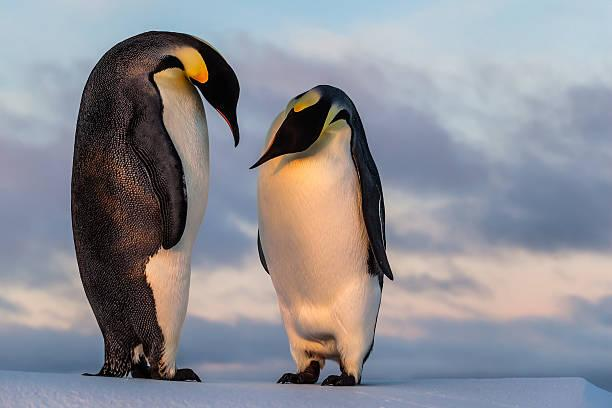emporer: (61, 12, 246, 397), (227, 49, 412, 394)
